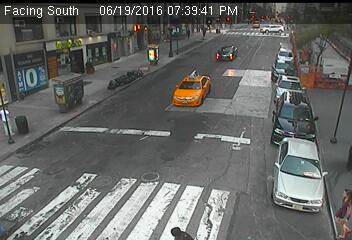neg: (129, 58, 162, 101), (185, 89, 213, 126), (204, 206, 221, 230), (289, 104, 306, 127), (260, 25, 268, 36), (215, 27, 223, 36)
pos: (326, 186, 351, 238), (184, 27, 194, 41)
